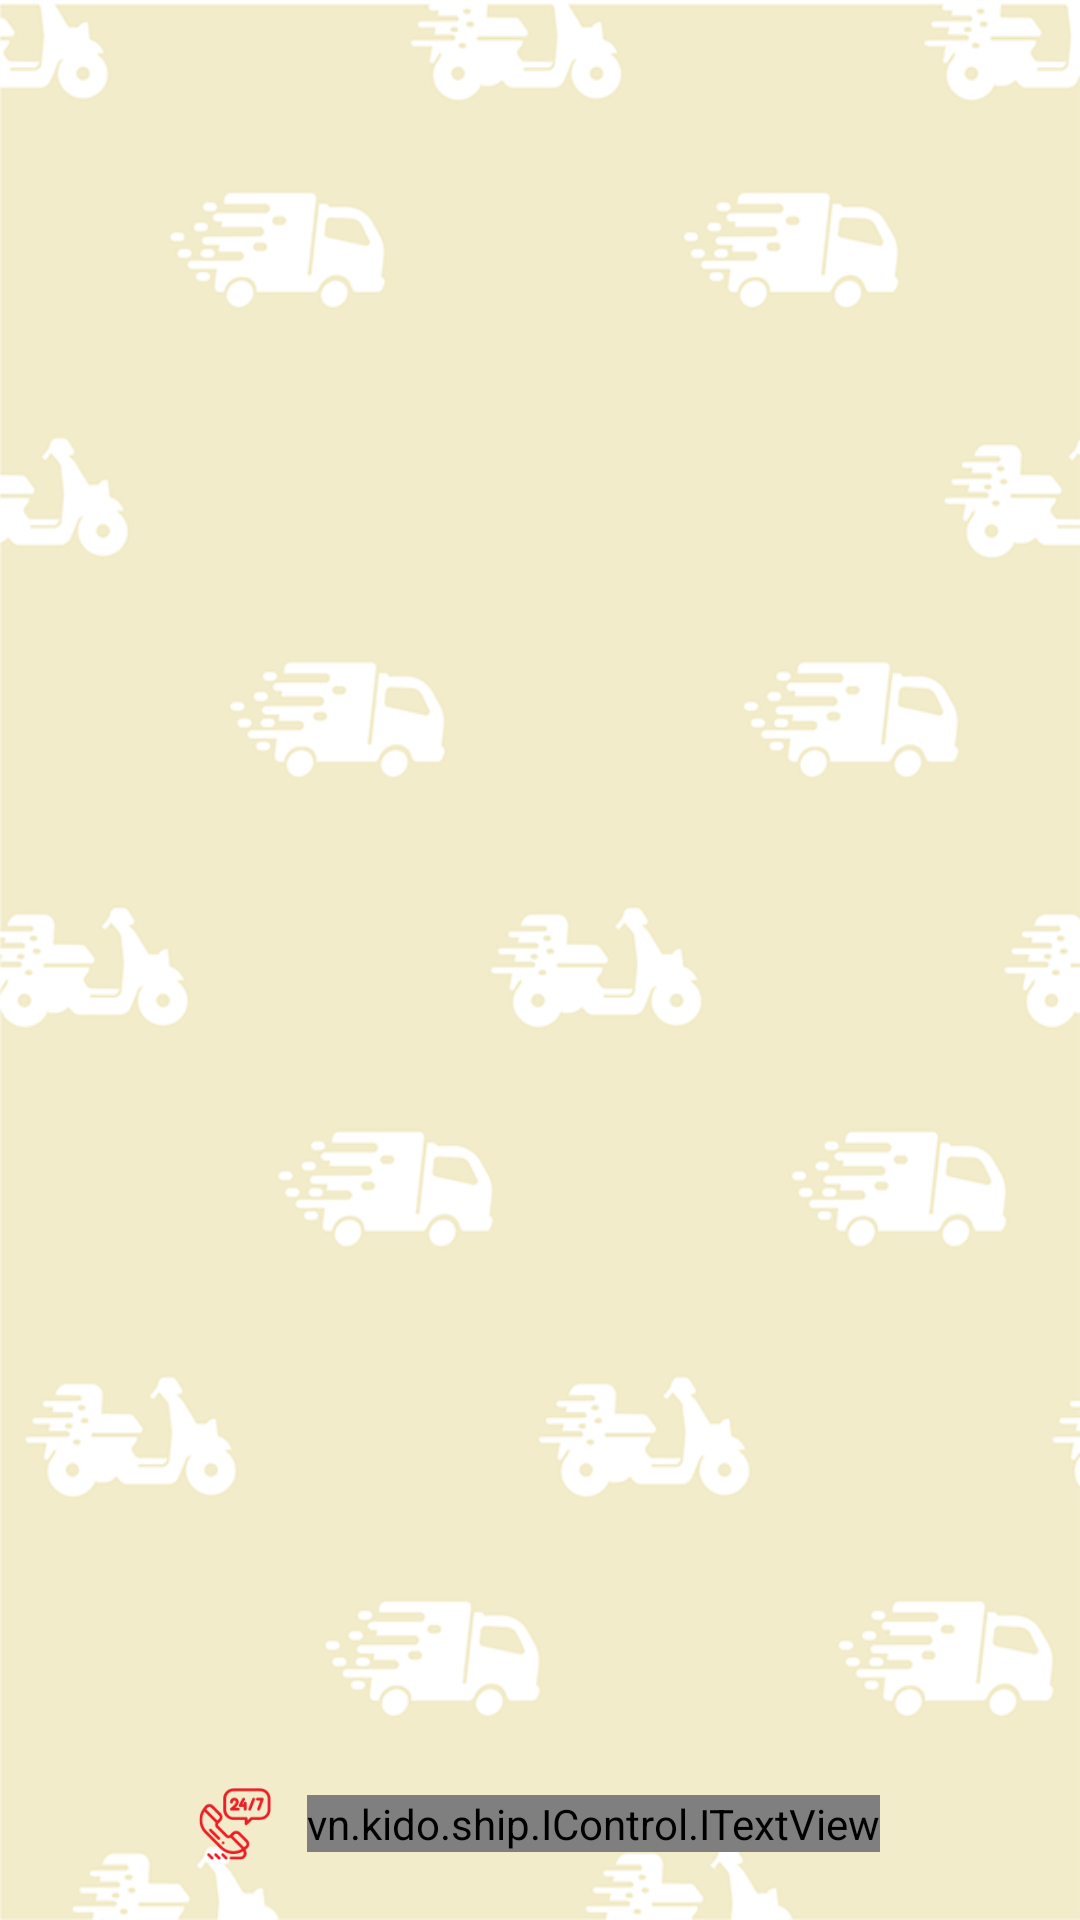

Named icons in this screenshot (1080*1920) and their bounding boxes, (x1, y1, x2, y2):
suppport: (199, 1788, 271, 1860)
